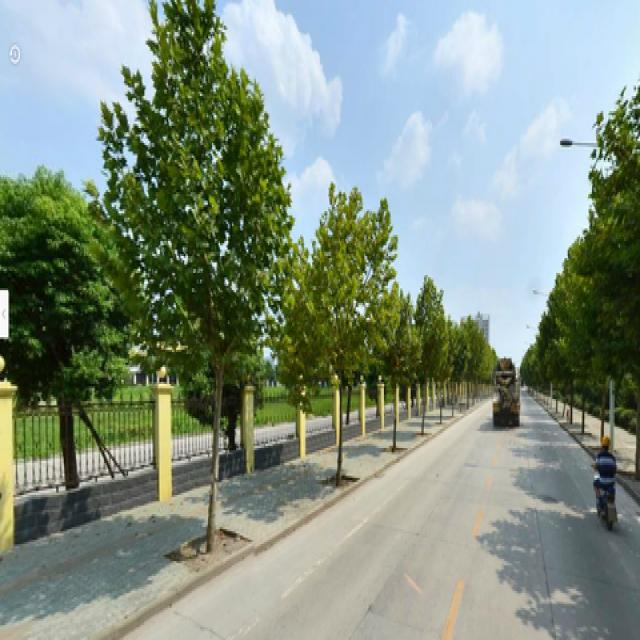meta: (134, 47, 262, 546), (304, 204, 371, 490)
